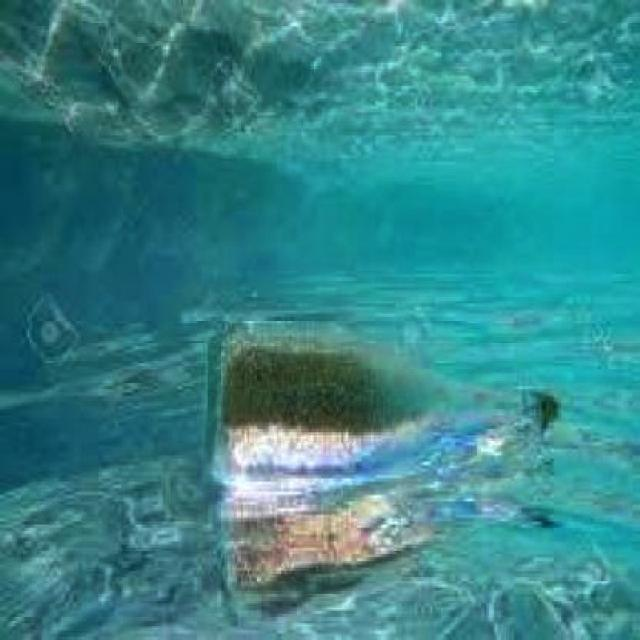gbottle: (202, 317, 561, 481)
